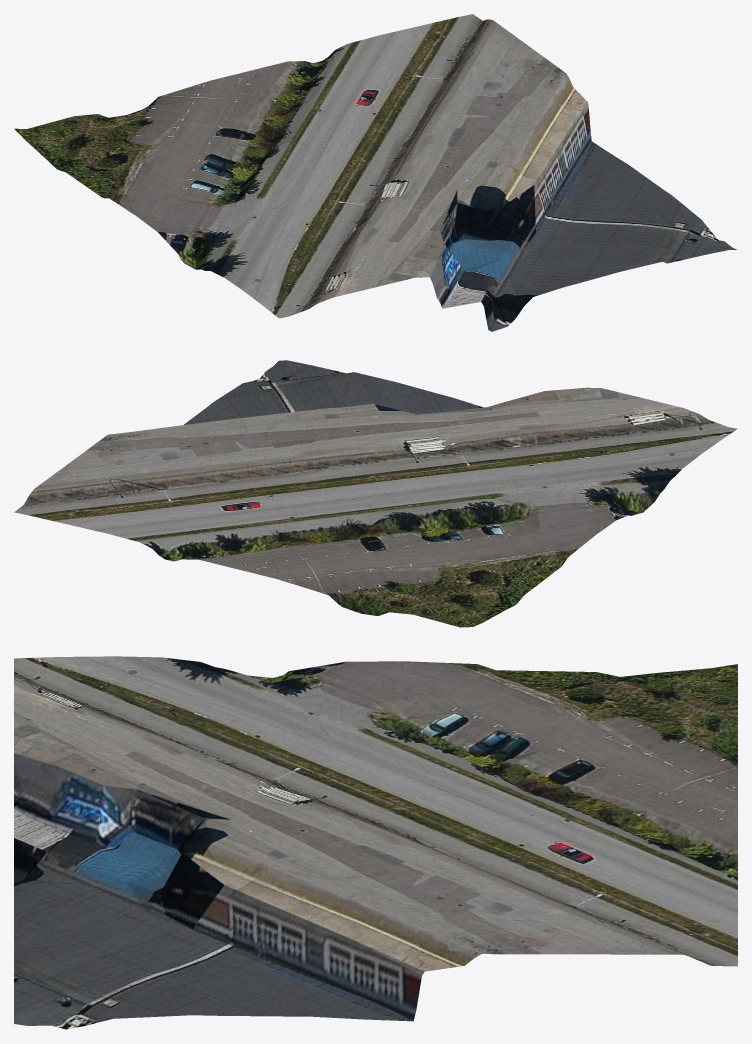
Rendered from map_15_8181_13785.dae.
The picture shows the model from 3 angles, top to bottom: view 1: azimuth 30°, elevation 25°; view 2: azimuth 150°, elevation 25°; view 3: azimuth 270°, elevation 25°; orthographic projection. The views are drawn at different scales.
Parts seen in each view (by area): view 1: Ter0; view 2: Ter0; view 3: Ter0.
Part boxes in pixels (x1,y1,x2,y2): Ter0: (14,14,736,331); Ter0: (14,360,737,627); Ter0: (14,656,737,1029).
Size of the model in its own units: 63.87 by 63.88 by 9.74.
Materials: 3 (3 with a texture image).
